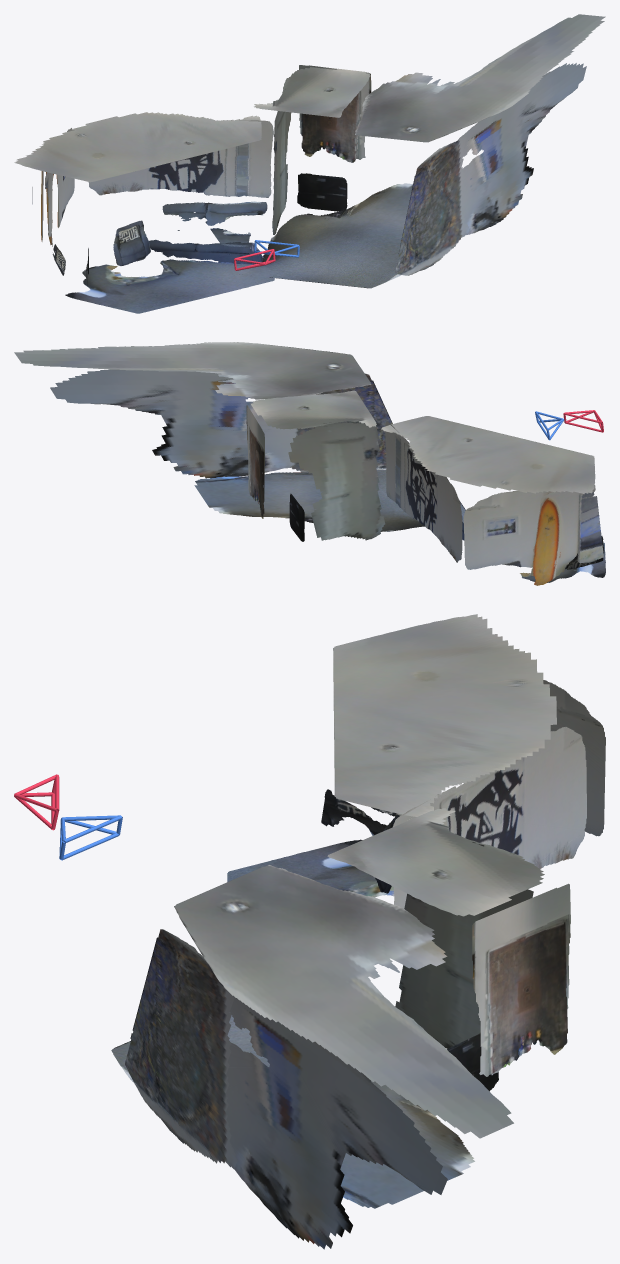
File: pred.glb
3 renders of one model, top to bottom at view 1: azimuth 30°, elevation 25°; view 2: azimuth 150°, elevation 25°; view 3: azimuth 270°, elevation 25°, orthographic. The views are drawn at different scales.
Visible parts, largest first — view 1: Node; view 2: Node; view 3: Node.
Part boxes in pixels (x1,y1,x2,y2): Node: (14,14,605,313); Node: (14,342,605,585); Node: (14,614,605,1249).
Size of the model in its own units: 12.3 by 2.68 by 5.85.
28 materials, 26 textured.
